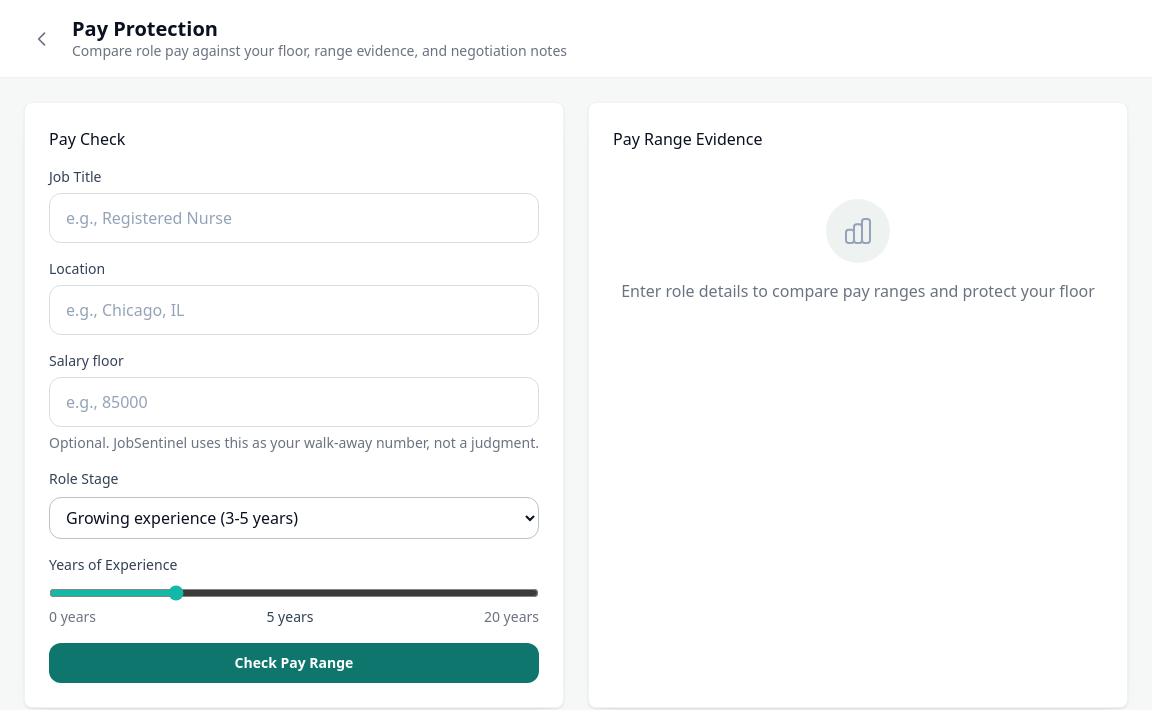
Test: Salary › explains pay ranges without percentile shorthand
The width and height of the screenshot is (1152, 710).
Type "Registered Nurse" into the field labelled "Job Title".
click(294, 218); type("Registered Nurse")  # box [49,193,539,243]
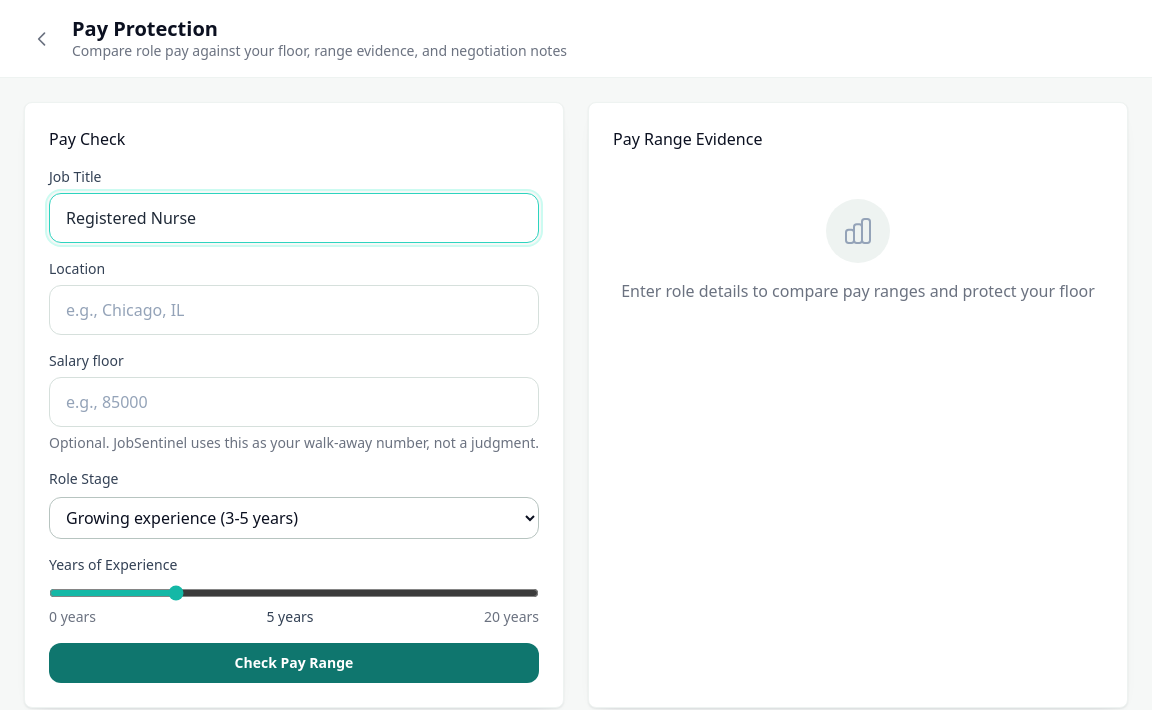
Type "Denver, CO" into the field labelled "Location".
click(294, 310); type("Denver, CO")  # box [49,285,539,335]
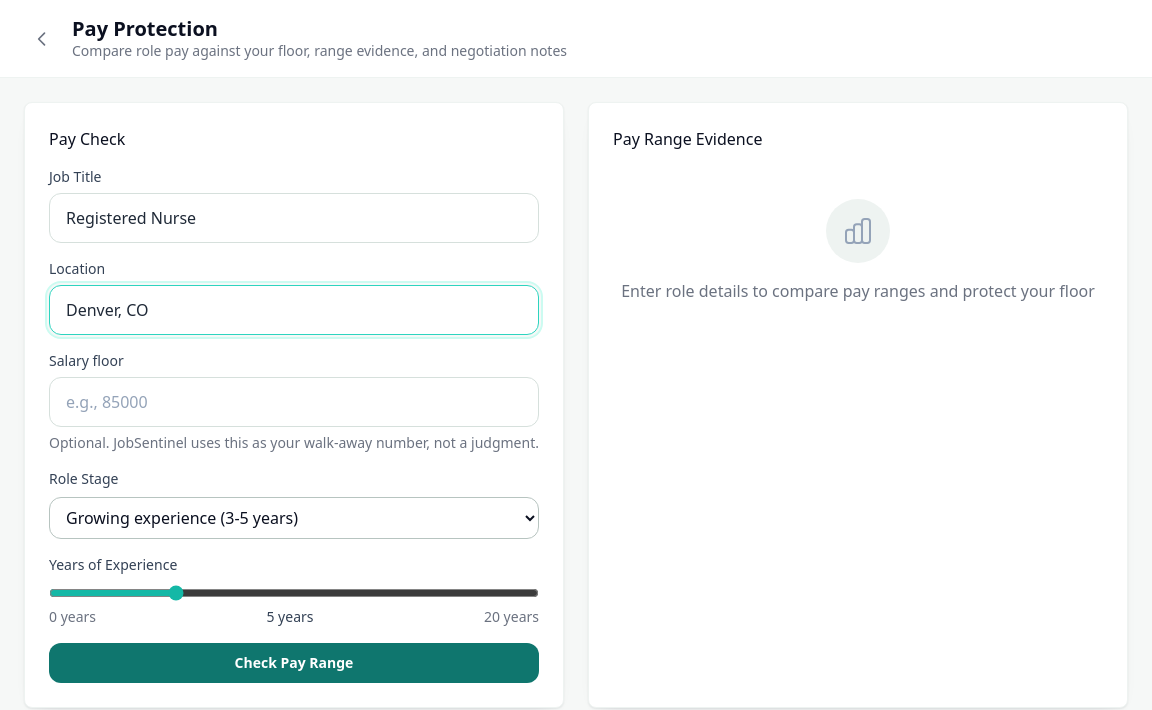
Click the button "Check Pay Range".
click(294, 663)  # box [49,643,539,683]
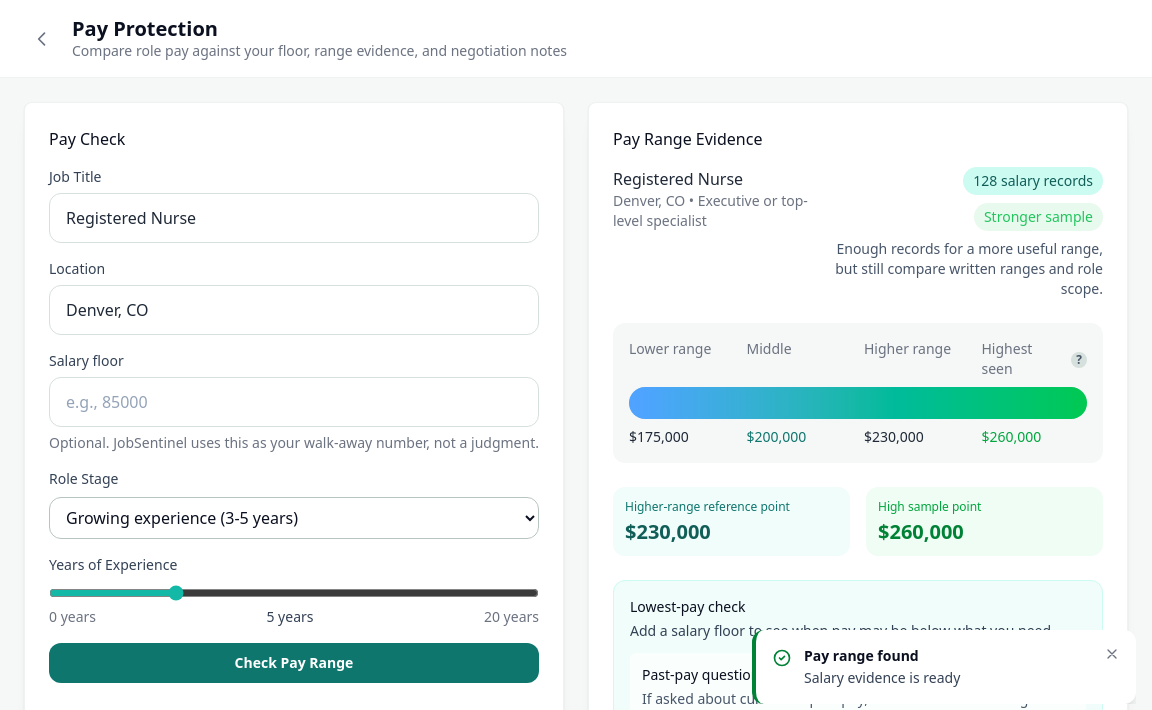
Check: the text "Lower range" is shown, box [629,339,711,358]
Check: the text "Middle" is shown, box [746,339,792,358]
Check: the text "Higher range" is shown, box [864,339,951,358]
